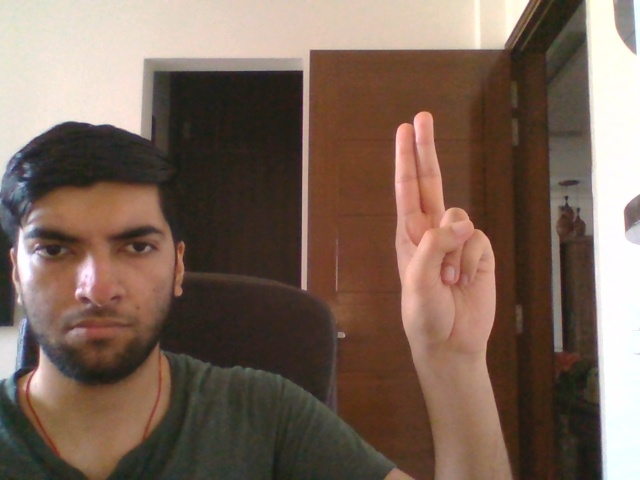LetterU: (392, 110, 498, 358)
